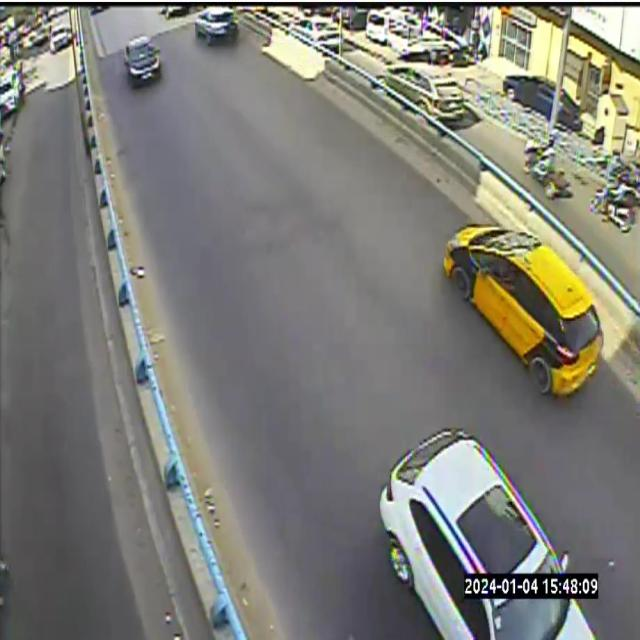car: (442, 218, 604, 399), (49, 22, 72, 55), (51, 21, 72, 54), (49, 24, 71, 53)
